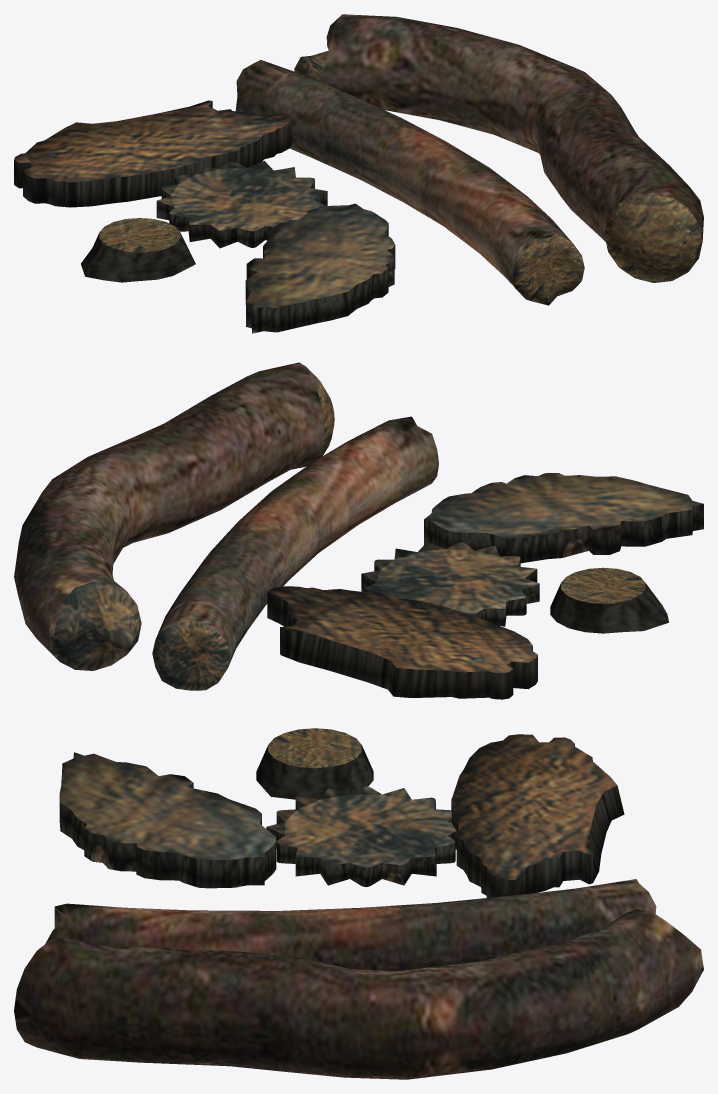
Rendered from diyu.FBX.
3 views of the same model, one above another, from view 1: azimuth 30°, elevation 25°; view 2: azimuth 150°, elevation 25°; view 3: azimuth 270°, elevation 25° (orthographic). The views are drawn at different scales.
Parts seen in each view (by area): view 1: Cylinder004, Cylinder003, Line001, Line002, Cylinder001, Cylinder002; view 2: Cylinder004, Cylinder003, Line001, Line002, Cylinder001, Cylinder002; view 3: Cylinder004, Cylinder003, Line001, Line002, Cylinder001, Cylinder002.
Boxes of the visible parts, <box> form: Cylinder004: <box>294,14,703,282</box>; Cylinder003: <box>235,60,584,305</box>; Line001: <box>14,100,291,207</box>; Line002: <box>245,203,395,333</box>; Cylinder001: <box>156,161,327,248</box>; Cylinder002: <box>81,218,195,282</box>; Cylinder004: <box>14,362,334,670</box>; Cylinder003: <box>152,416,438,690</box>; Line001: <box>267,586,537,699</box>; Line002: <box>424,473,703,563</box>; Cylinder001: <box>361,542,539,626</box>; Cylinder002: <box>550,567,668,633</box>; Cylinder004: <box>14,909,703,1079</box>; Cylinder003: <box>45,879,656,971</box>; Line001: <box>451,734,624,897</box>; Line002: <box>59,752,276,888</box>; Cylinder001: <box>266,786,456,886</box>; Cylinder002: <box>256,728,373,799</box>.
Size of the model in its own units: 48.65 by 7.55 by 45.17.
Materials: 1 (1 with a texture image).
